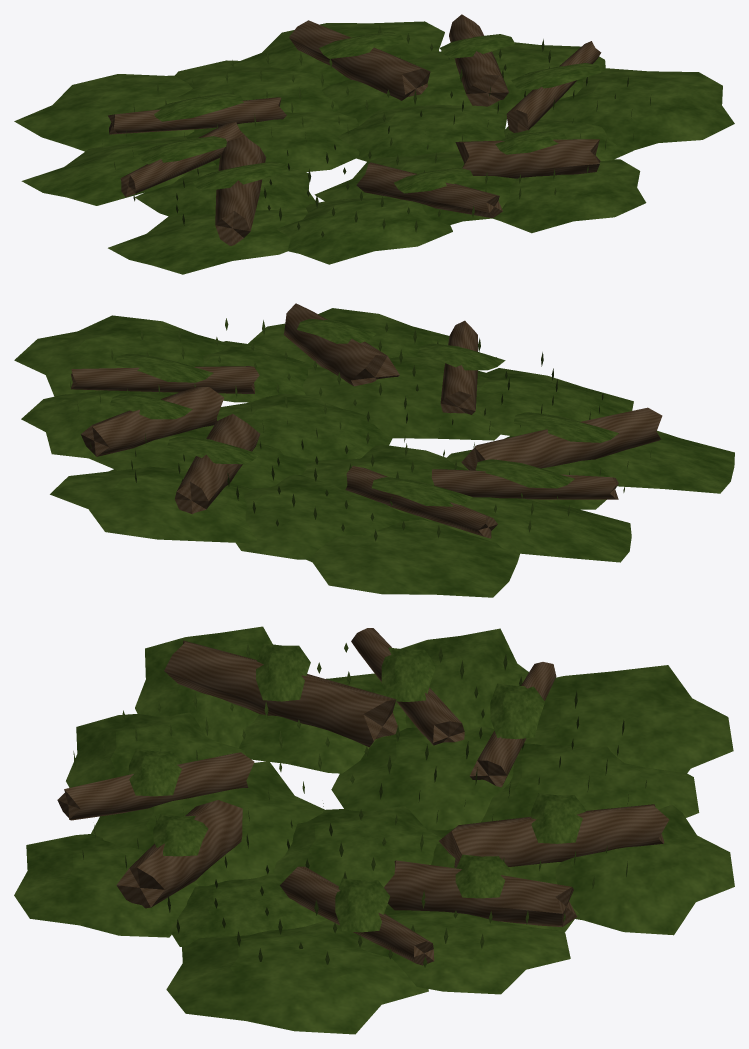
Rendered from Moss_Deadwood_Patch_01_LOD0.fbx.
3 renders of one model, top to bottom at view 1: azimuth 30°, elevation 25°; view 2: azimuth 150°, elevation 25°; view 3: azimuth 270°, elevation 25°, orthographic. The views are drawn at different scales.
Visible parts, largest first — view 1: Moss_Deadwood_Patch_01_LOD0_Mesh; view 2: Moss_Deadwood_Patch_01_LOD0_Mesh; view 3: Moss_Deadwood_Patch_01_LOD0_Mesh.
Part boxes in pixels (left/top/right/bottom): Moss_Deadwood_Patch_01_LOD0_Mesh: left=14, top=14, right=734, bottom=274; Moss_Deadwood_Patch_01_LOD0_Mesh: left=14, top=303, right=734, bottom=597; Moss_Deadwood_Patch_01_LOD0_Mesh: left=14, top=626, right=734, bottom=1034.
Size of the model in its own units: 185 by 13.2 by 139.
